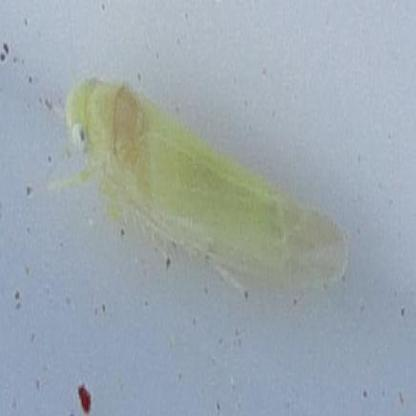green-leafhopper: (48, 75, 352, 290)
